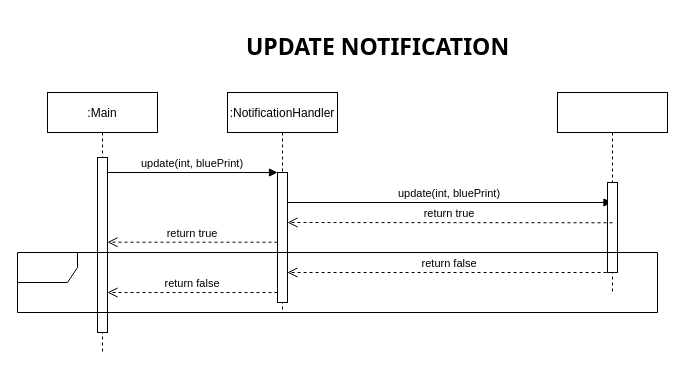
This 685x370 diagram has some shape labels left out. The shapes that lost their labels are listed below. From the top down, each one's centre as x and y in pixels, then its label:
point 612,192: :mySQLInventory
point 337,282: ALT
